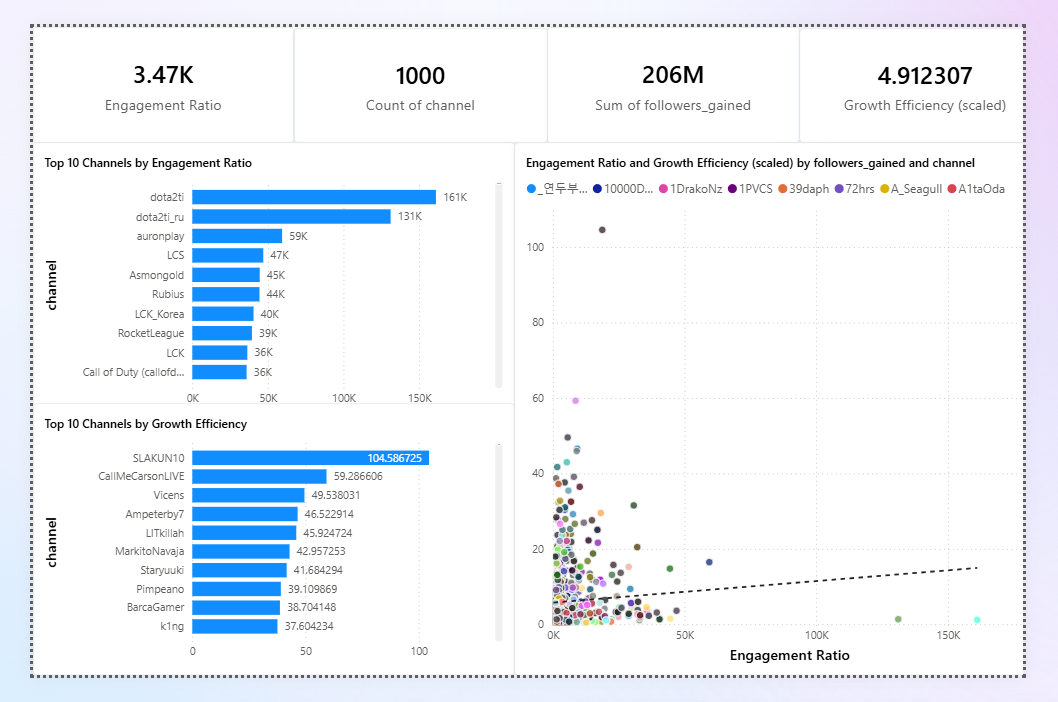

The dashboard page shown, as its layout file describes it:
{"tool":"powerbi","page":{"name":"Overview","canvas":[1100,720],"ordinal":0},"visuals":[{"type":"card","fields":{"Values":["streamers21.Engagement Ratio"]},"box":[0,0,290,128.3],"z":0},{"type":"card","fields":{"Values":["CountNonNull(streamers21.channel)"]},"box":[290,1.7,281.7,126.7],"z":1},{"type":"card","fields":{"Values":["Sum(streamers21.followers_gained)"]},"box":[571.7,0,280,128.3],"z":2},{"type":"card","fields":{"Values":["streamers21.Growth Efficiency"]},"box":[851.7,1.7,280,126.7],"z":3},{"type":"barChart","title":"Top 10 Channels by Engagement Ratio","fields":{"Category":["streamers21.channel"],"Y":["streamers21.Engagement Ratio"]},"box":[0,128.3,535,310],"z":4},{"type":"barChart","title":"Top 10 Channels by Growth Efficiency","fields":{"Category":["streamers21.channel"],"Y":["streamers21.Growth Efficiency"]},"box":[0,418.3,535,301.7],"z":5},{"type":"scatterChart","fields":{"X":["streamers21.Engagement Ratio"],"Y":["streamers21.Growth Efficiency"],"Category":["streamers21.followers_gained"],"Series":["streamers21.channel"]},"box":[535,128.3,596.7,591.7],"z":6}]}

Visuals, with their boxes in screenshot pixels (x1, y1, x2, y2), scaled from the page's 1100x720 canvas onto the 1058x702 screenshot:
card - streamers21.Engagement Ratio: pyautogui.locateOnScreen(0, 0, 279, 125)
card - CountNonNull(streamers21.channel): pyautogui.locateOnScreen(279, 2, 550, 125)
card - Sum(streamers21.followers_gained): pyautogui.locateOnScreen(550, 0, 819, 125)
card - streamers21.Growth Efficiency: pyautogui.locateOnScreen(819, 2, 1057, 125)
"Top 10 Channels by Engagement Ratio" barChart: pyautogui.locateOnScreen(0, 125, 515, 427)
"Top 10 Channels by Growth Efficiency" barChart: pyautogui.locateOnScreen(0, 408, 515, 701)
scatterChart - streamers21.Engagement Ratio x streamers21.Growth Efficiency: pyautogui.locateOnScreen(515, 125, 1057, 701)
